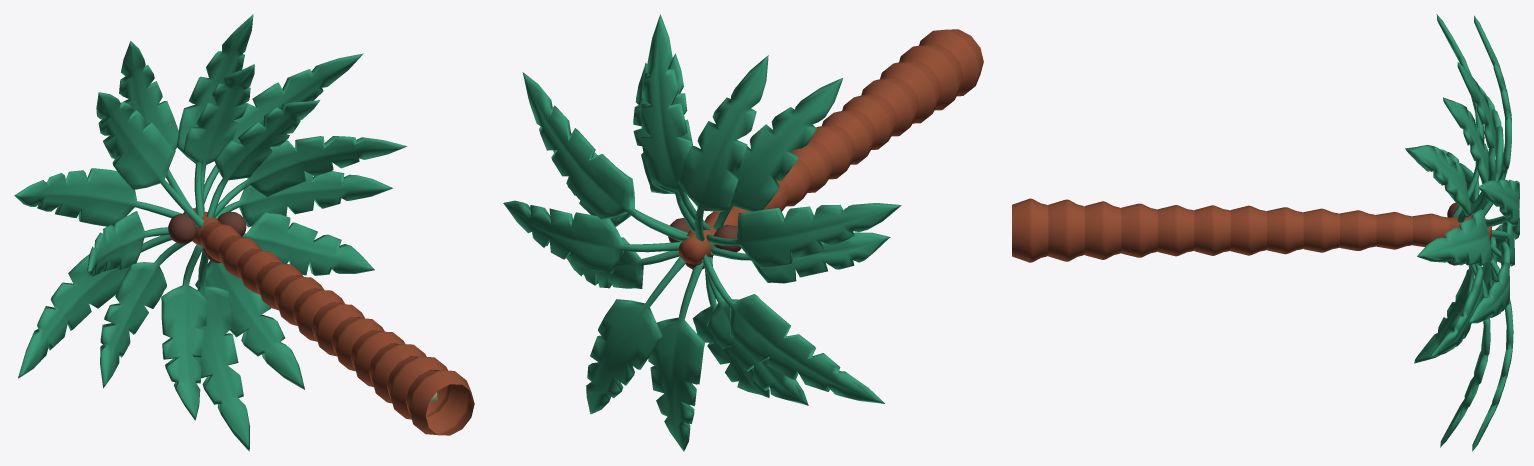
File: palmTreeStraight.fbx
3 views of the same model, side by side, from view 1: azimuth 30°, elevation 25°; view 2: azimuth 150°, elevation 25°; view 3: azimuth 270°, elevation 25° (orthographic). The views are drawn at different scales.
Visible parts, largest first — view 1: palmTree; view 2: palmTree; view 3: palmTree.
Boxes of the visible parts, x1,y1,x2,y2 form: palmTree: (14,14,474,451); palmTree: (503,14,983,451); palmTree: (1012,14,1519,451).
Size of the model in its own units: 876 by 936 by 1098.
1 material, 1 textured.
